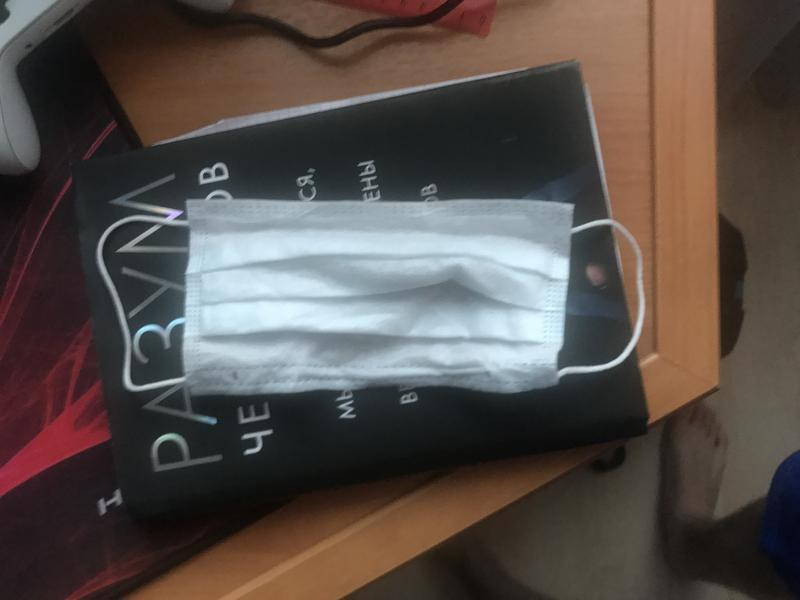medical_mask: (96, 198, 647, 389)
